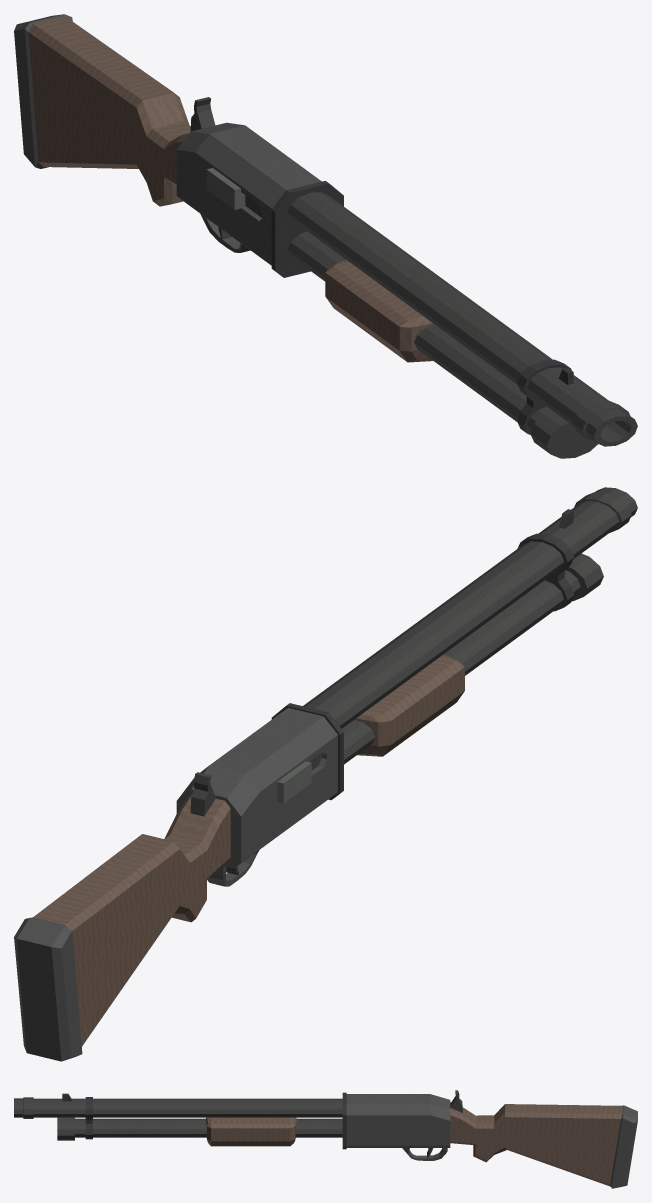
The model's file is shotgun.glb.
3 renders of one model, top to bottom at view 1: azimuth 30°, elevation 25°; view 2: azimuth 150°, elevation 25°; view 3: azimuth 270°, elevation 25°, orthographic. The views are drawn at different scales.
Parts seen in each view (by area): view 1: part_body, part_pump, part_bolt; view 2: part_body, part_pump, part_bolt; view 3: part_body, part_pump.
Part boxes in pixels (<box>): part_body: <box>14,14,637,458</box>; part_pump: <box>325,260,434,362</box>; part_bolt: <box>206,168,245,209</box>; part_body: <box>14,487,637,1061</box>; part_pump: <box>355,654,464,756</box>; part_bolt: <box>277,761,311,803</box>; part_body: <box>14,1090,637,1188</box>; part_pump: <box>205,1117,296,1146</box>.
Bounding box in the file's own units: 0.0994 × 0.2241 × 1.38.
Materials: 5 (5 with a texture image).
